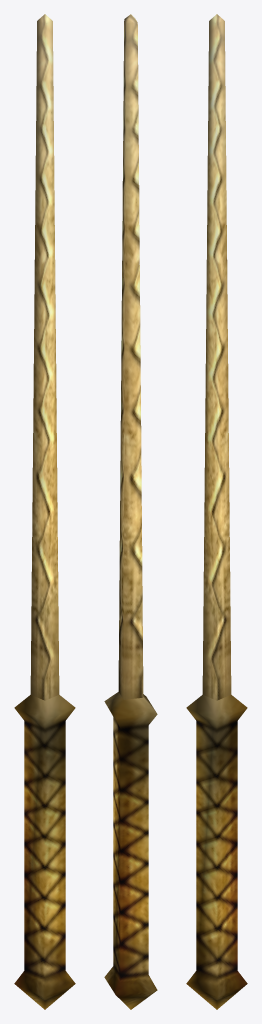
File: MedievalWand.fbx
3 views of the same model, side by side, from view 1: azimuth 90°, elevation 25°; view 2: azimuth 150°, elevation 25°; view 3: azimuth 270°, elevation 25° (orthographic).
Visible parts, largest first — view 1: MedievalWand; view 2: MedievalWand; view 3: MedievalWand.
Part boxes in pixels (<box>): MedievalWand: <box>14,14,75,1009</box>; MedievalWand: <box>104,14,157,1009</box>; MedievalWand: <box>186,14,247,1009</box>.
Bounding box in the file's own units: 0.0339 × 0.6065 × 0.0339.
